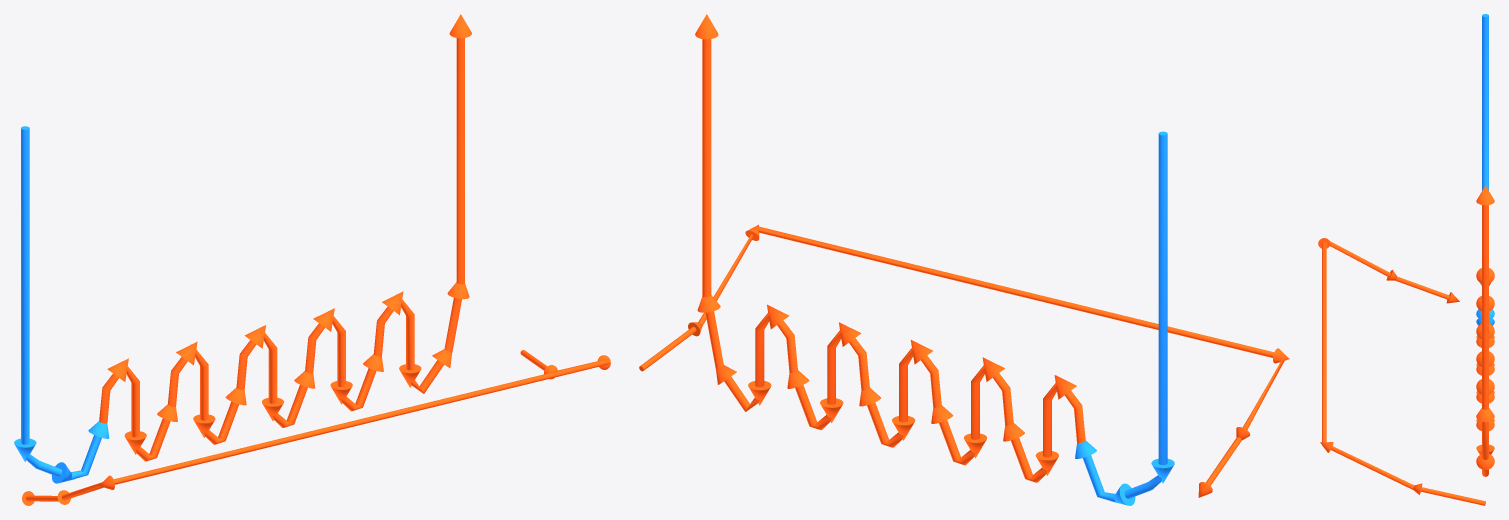
File: boiler_feedwater_pump_flow.glb
3 views of the same model, side by side, from view 1: azimuth 30°, elevation 25°; view 2: azimuth 150°, elevation 25°; view 3: azimuth 270°, elevation 25° (orthographic). The views are drawn at different scales.
Visible parts, largest first — view 1: flow_discharge, flow_balance_leakoff, flow_suction; view 2: flow_discharge, flow_balance_leakoff, flow_suction; view 3: flow_discharge, flow_balance_leakoff, flow_suction.
Boxes of the visible parts, x1,y1,x2,y2 form: flow_discharge: (99, 14, 471, 461); flow_balance_leakoff: (22, 350, 610, 505); flow_suction: (14, 126, 109, 483); flow_discharge: (695, 14, 1085, 482); flow_balance_leakoff: (639, 224, 1289, 497); flow_suction: (1075, 131, 1174, 505); flow_discharge: (1476, 185, 1494, 476); flow_balance_leakoff: (1318, 238, 1485, 505); flow_suction: (1476, 14, 1494, 325).
Size of the model in its own units: 0.8423 by 0.5682 by 0.296.
